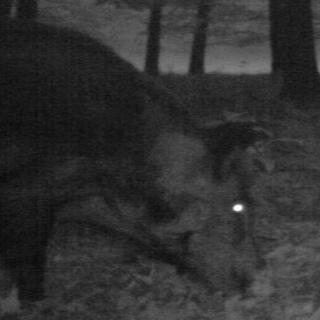Pig: (0, 8, 288, 320)
